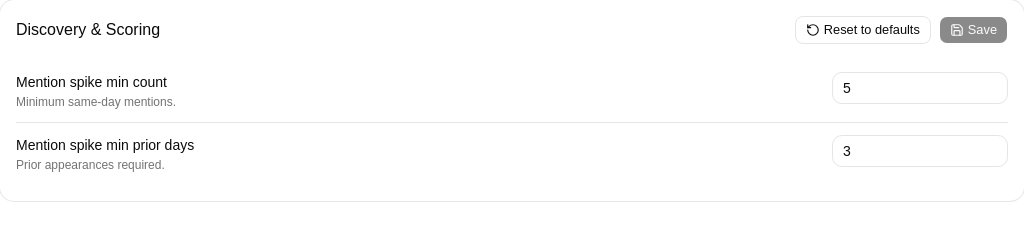
Test: SettingsCategoryForm › shows a server validation error without losing edits
The image size is (1024, 251).
Replace the text in the number field labelled "Mention spike min count" with "9" at (920, 88), box top-left (832, 72), bottom-right (1008, 104)
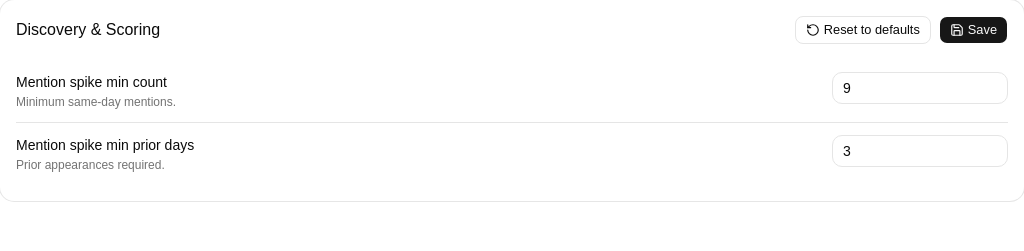
Click the button "Save".
click(973, 30)  # box top-left (939, 16), bottom-right (1008, 44)
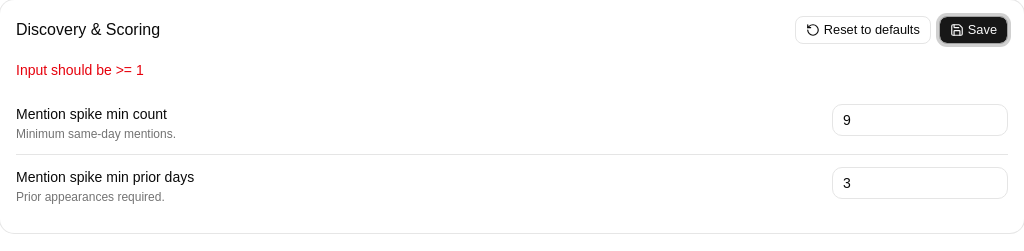
Check: the text "Input should be >= 1" is shown, box top-left (16, 62), bottom-right (144, 78)
